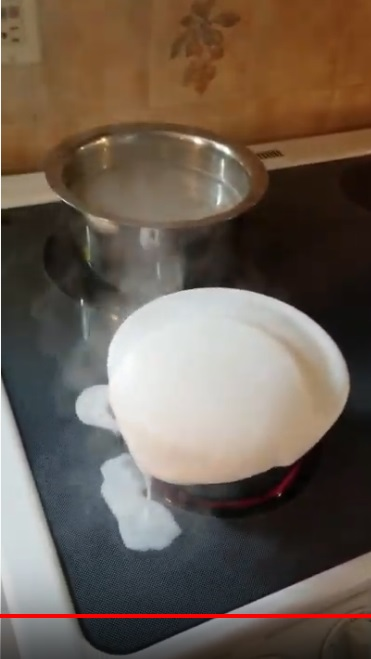Boiled: (73, 280, 352, 564)
